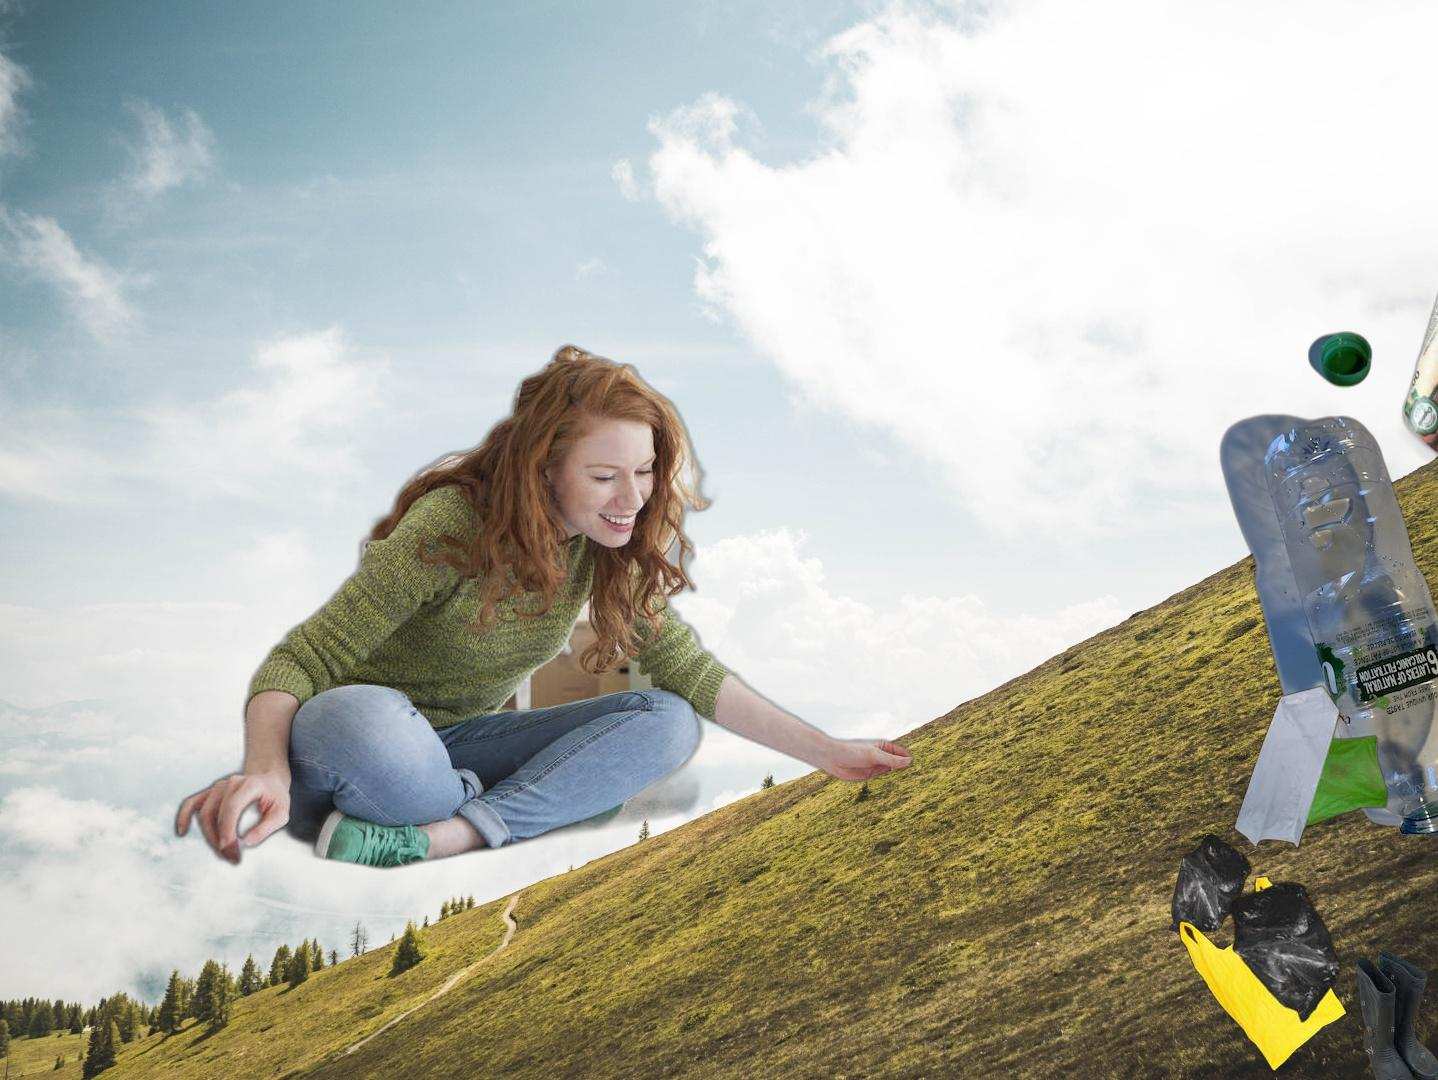paper: (1396, 126, 1438, 511)
plastic-bag: (1164, 684, 1389, 850), (1176, 874, 1350, 1074), (1166, 832, 1255, 935)
plastic-bottles: (1217, 328, 1438, 834)
shoes: (1353, 948, 1438, 1080)
trashbox-cardboard: (164, 338, 924, 876)
